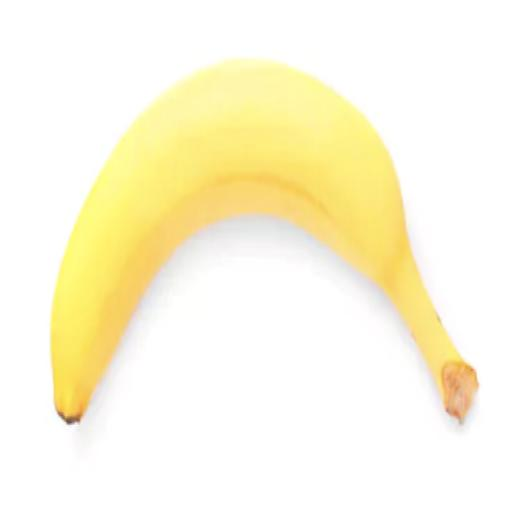banana: (51, 61, 478, 423)
